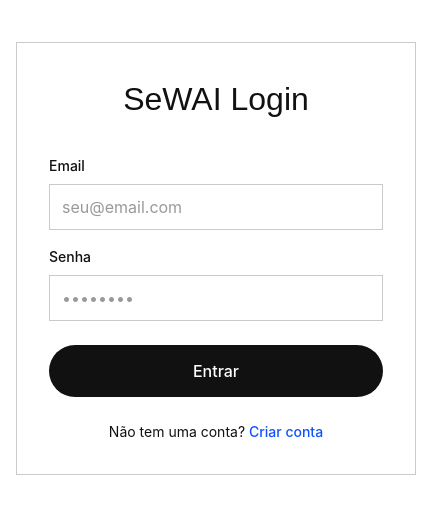
Test case: LoginPage › shows error on submit with empty fields
Click the button "Entrar" at (216, 370), box [49,344,383,396]
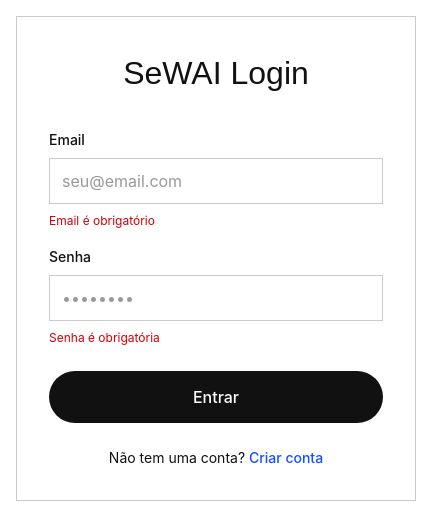
Check: the text "Email é obrigatório" is shown, box [49,212,155,228]
Check: the text "Senha é obrigatória" is shown, box [49,330,160,344]
